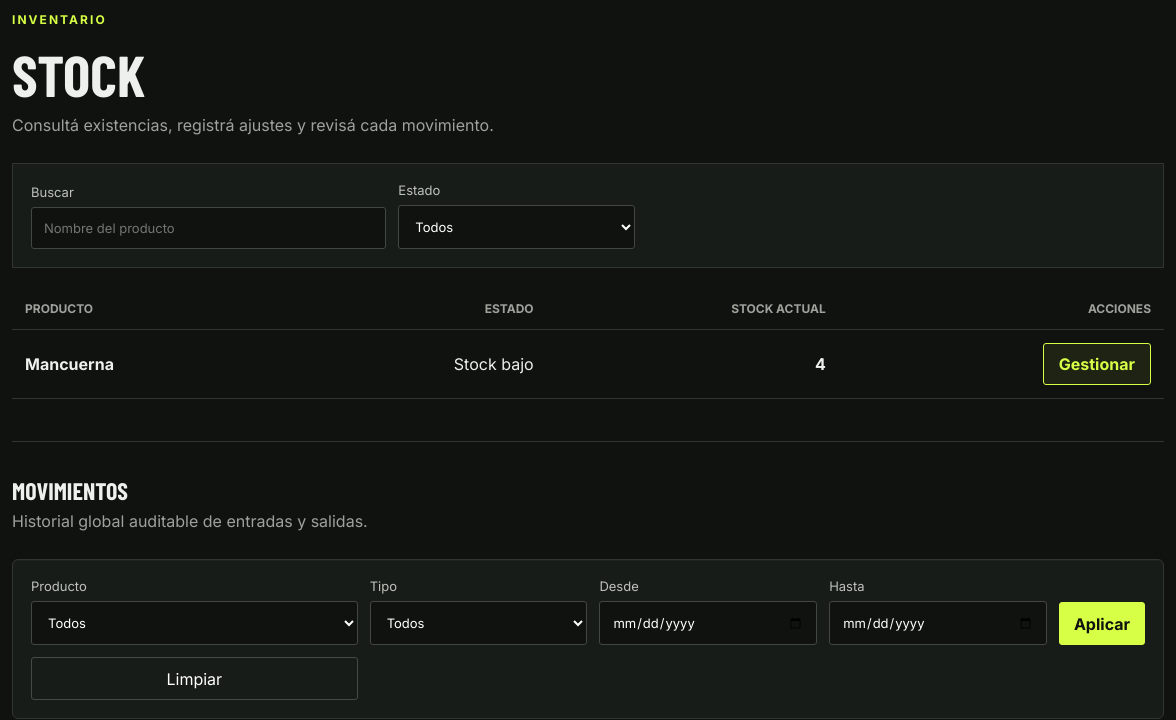
Test: StockAdmin › aplica, pagina y limpia filtros globales sin consultar por cada pulsación
Select "Mancuerna" in the dropdown labelled "Producto" at (194, 623), box 31,601 -> 358,645
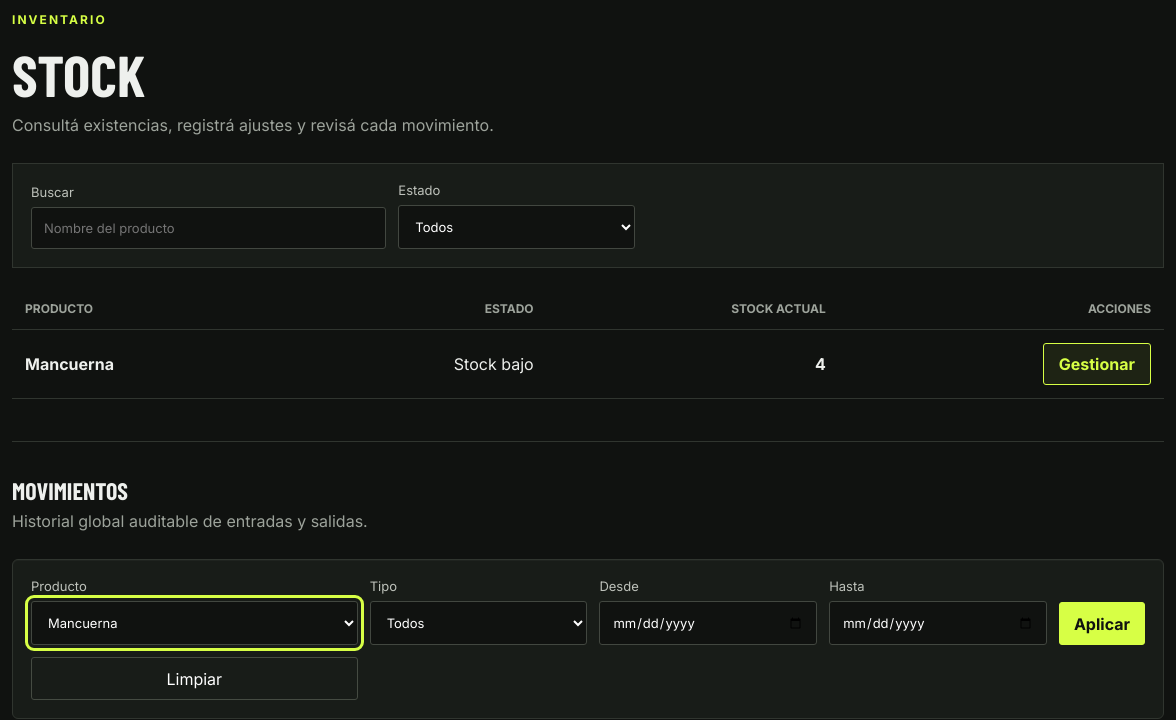
Select "Stock inicial" in the dropdown labelled "Tipo" at (478, 623), box 370,601 -> 587,645
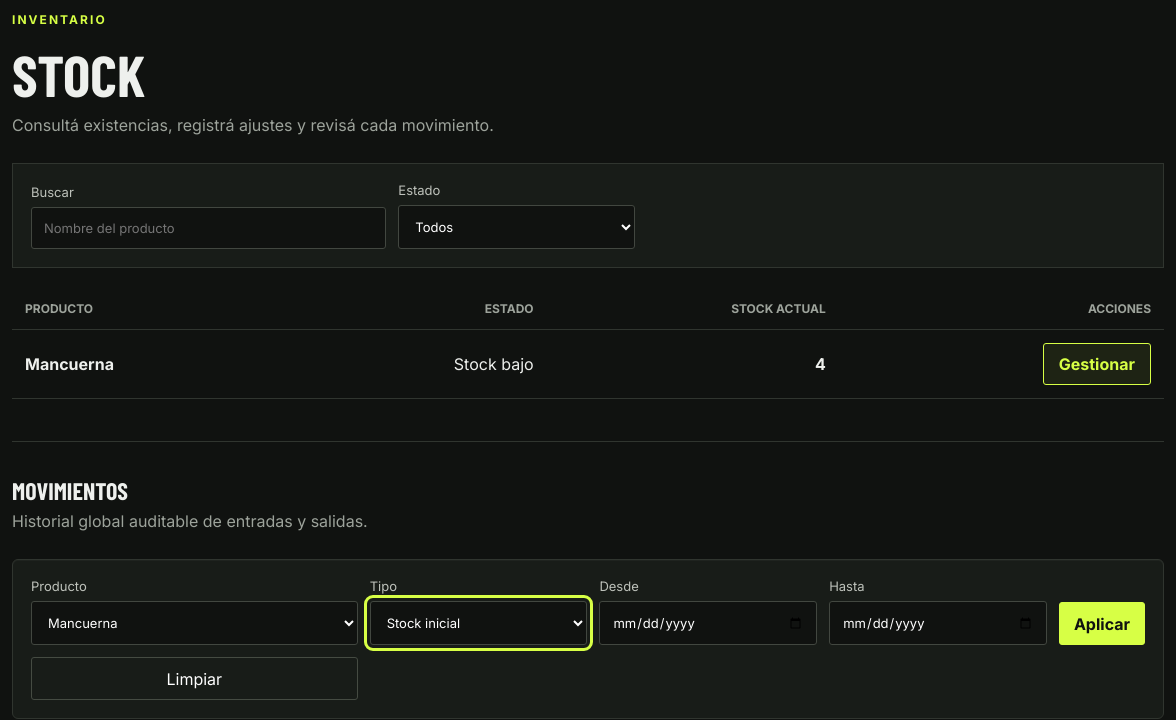
Type "2026-09-01" into the date field named "Movimientos desde" at (708, 623), box 599,601 -> 817,645
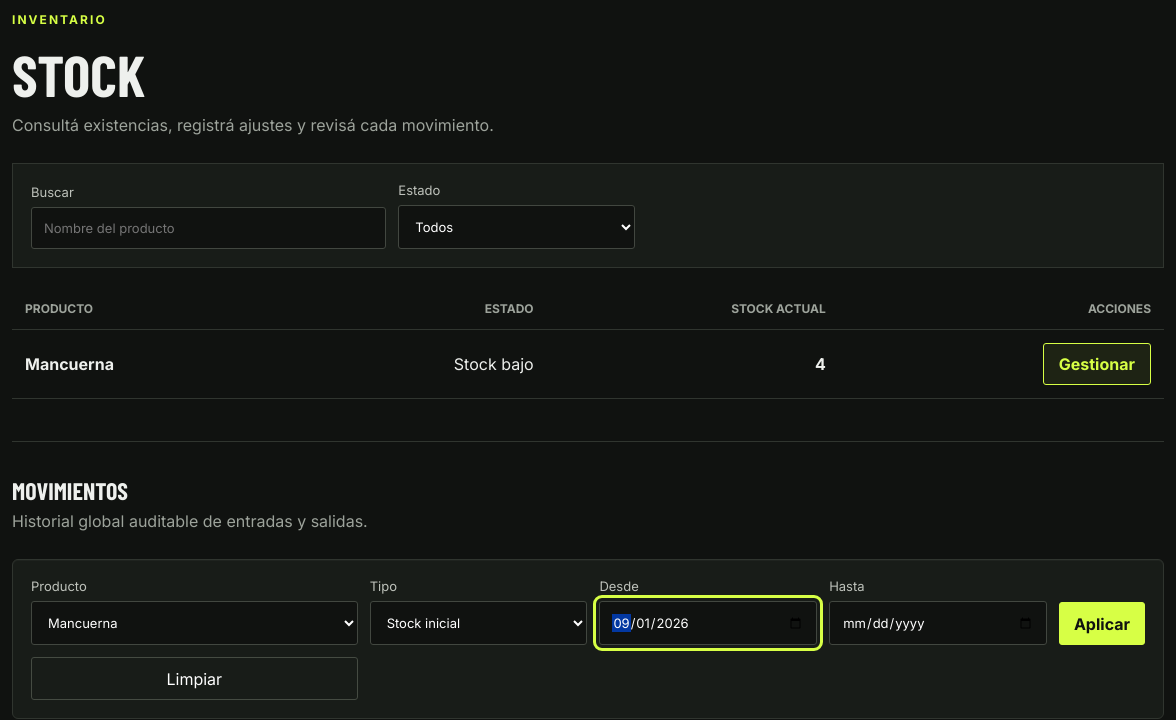
Click the button "Aplicar" at (1102, 624), box 1059,602 -> 1145,645
(page scrolled)
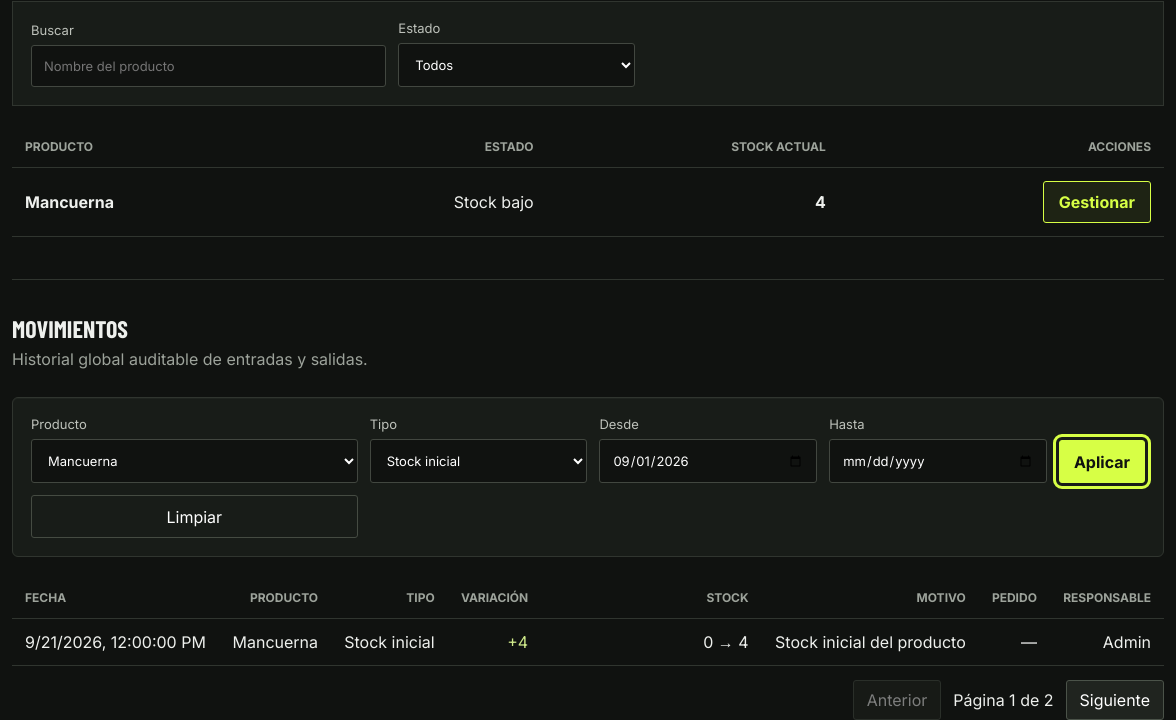
Click the button "Siguiente" at (1115, 700), box 1066,680 -> 1164,719
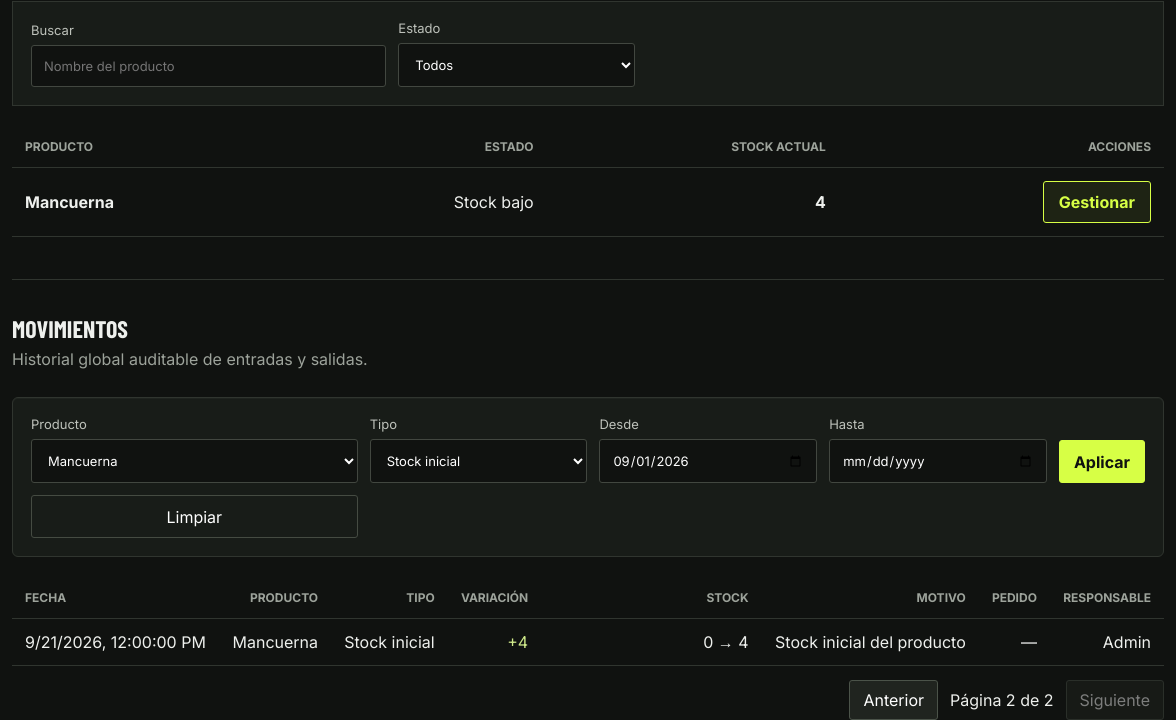
Click the button "Limpiar" at (194, 516), box 31,495 -> 358,538
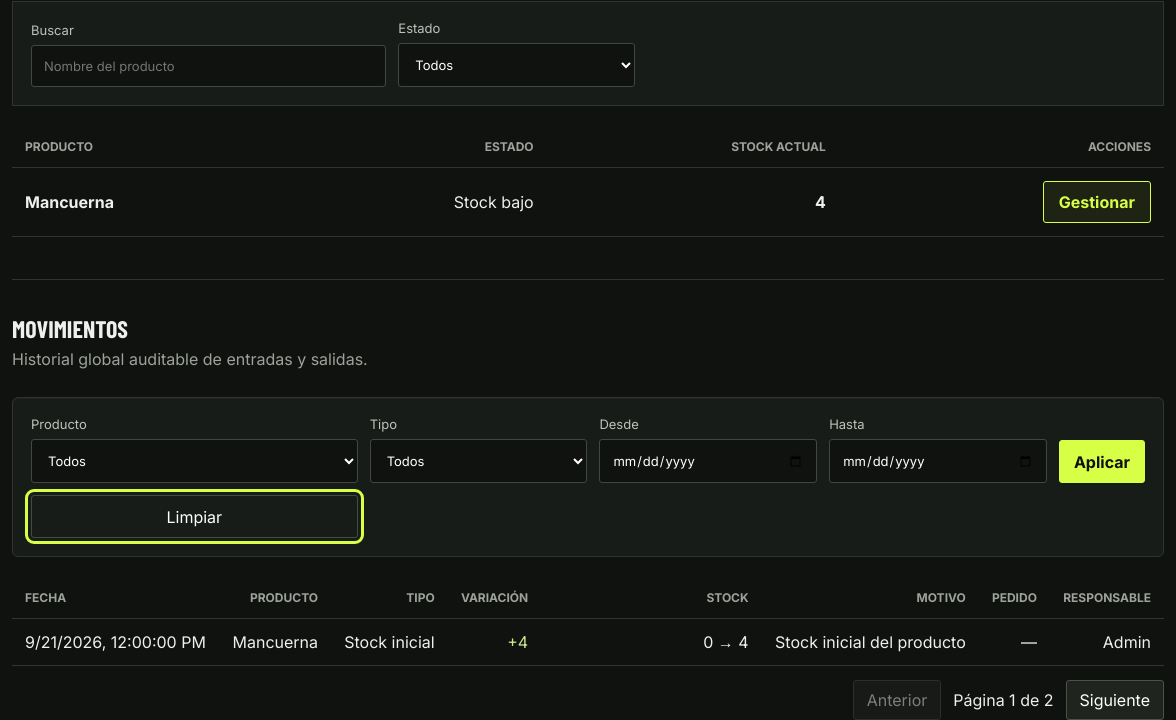
Expected: the date field named "Movimientos desde" is empty, 599,439 -> 817,483
